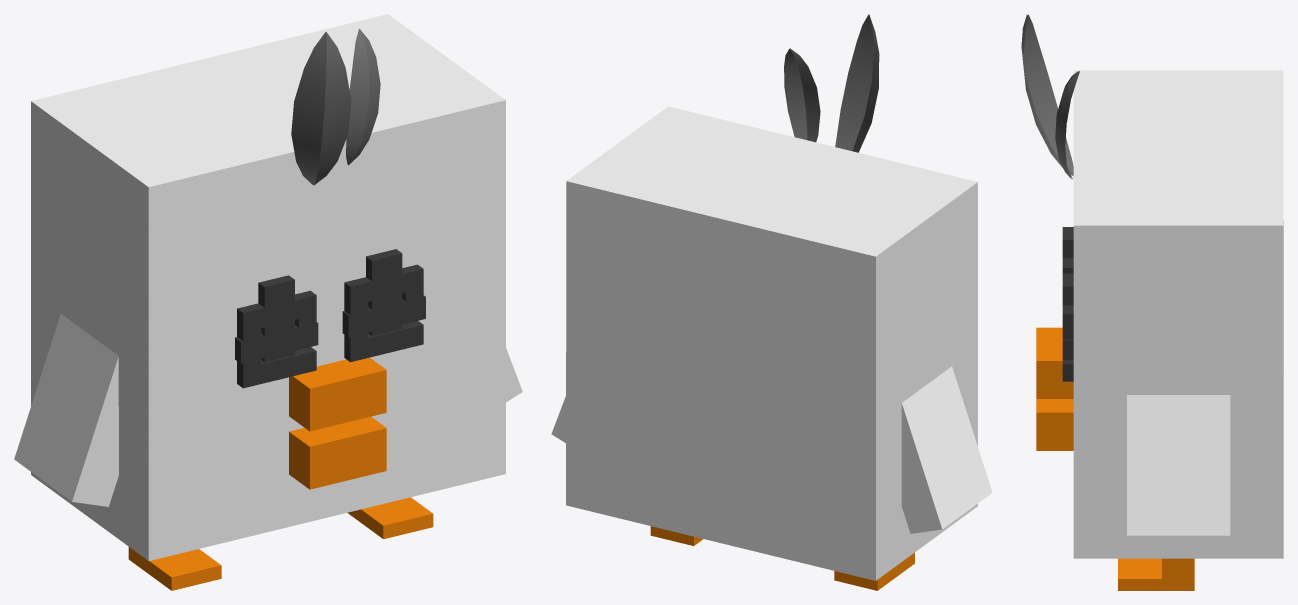
3 renders of one model, left to right at view 1: azimuth 30°, elevation 25°; view 2: azimuth 150°, elevation 25°; view 3: azimuth 270°, elevation 25°, orthographic. The views are drawn at different scales.
Parts seen in each view (by area): view 1: Ch_03, Ch_03_Wing_L, Ch_03_Feather, Ch_03_Eye_03_R, Ch_03_Eye_03_L, Ch_03_Leg_L, Ch_03_Leg_R; view 2: Ch_03, Ch_03_Wing_L, Ch_03_Feather, Ch_03_Leg_L; view 3: Ch_03, Ch_03_Wing_R, Ch_03_Feather, Ch_03_Leg_R, Ch_03_Eye_03_R.
Part boxes in pixels (x1,y1,x2,y2): Ch_03: [31, 14, 505, 560]; Ch_03_Wing_L: [14, 314, 118, 506]; Ch_03_Feather: [291, 28, 380, 185]; Ch_03_Eye_03_R: [344, 264, 423, 362]; Ch_03_Eye_03_L: [237, 290, 316, 388]; Ch_03_Leg_L: [128, 547, 221, 590]; Ch_03_Leg_R: [347, 497, 433, 539]; Ch_03: [566, 106, 977, 580]; Ch_03_Wing_L: [901, 366, 992, 533]; Ch_03_Feather: [784, 14, 879, 152]; Ch_03_Leg_L: [834, 552, 914, 590]; Ch_03: [1036, 70, 1283, 558]; Ch_03_Wing_R: [1127, 395, 1230, 535]; Ch_03_Feather: [1021, 14, 1079, 179]; Ch_03_Leg_R: [1118, 558, 1194, 590]; Ch_03_Eye_03_R: [1062, 305, 1073, 381].
Bounding box in the file's own units: 10.27 × 12.43 × 5.81.
